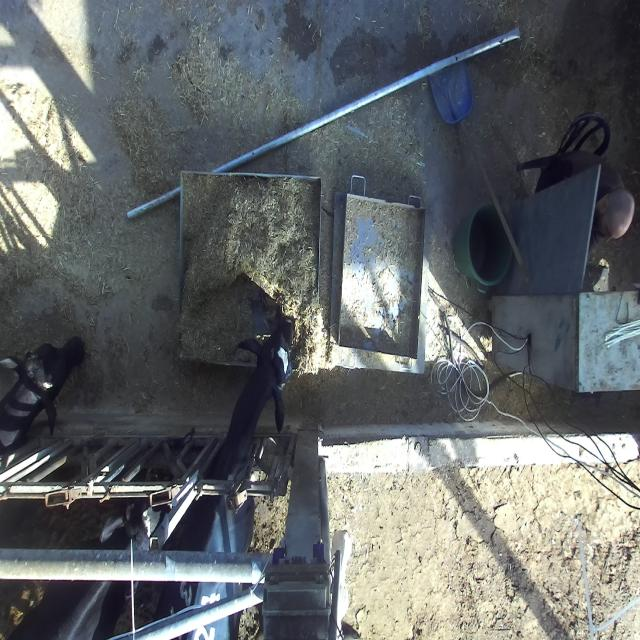cow: (0, 337, 86, 435), (237, 315, 295, 434), (102, 470, 172, 556)
